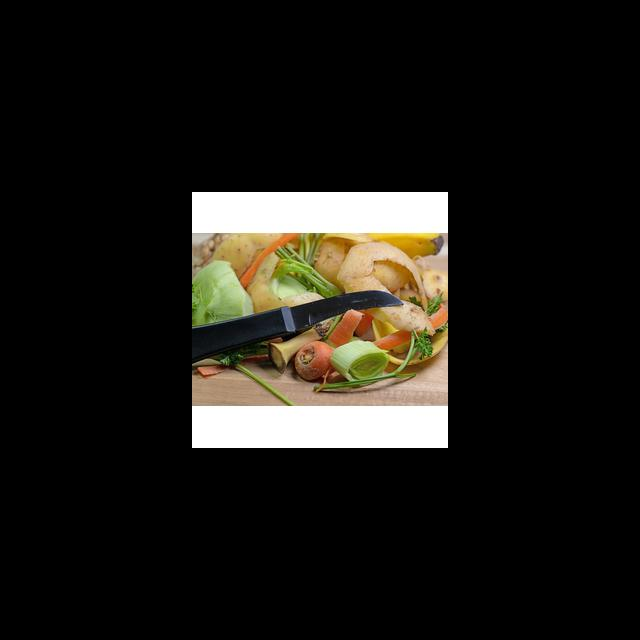food_waste: (346, 230, 445, 354), (241, 230, 342, 296), (222, 365, 309, 419), (198, 248, 255, 319), (337, 334, 392, 381), (297, 338, 340, 385), (268, 337, 319, 373)
